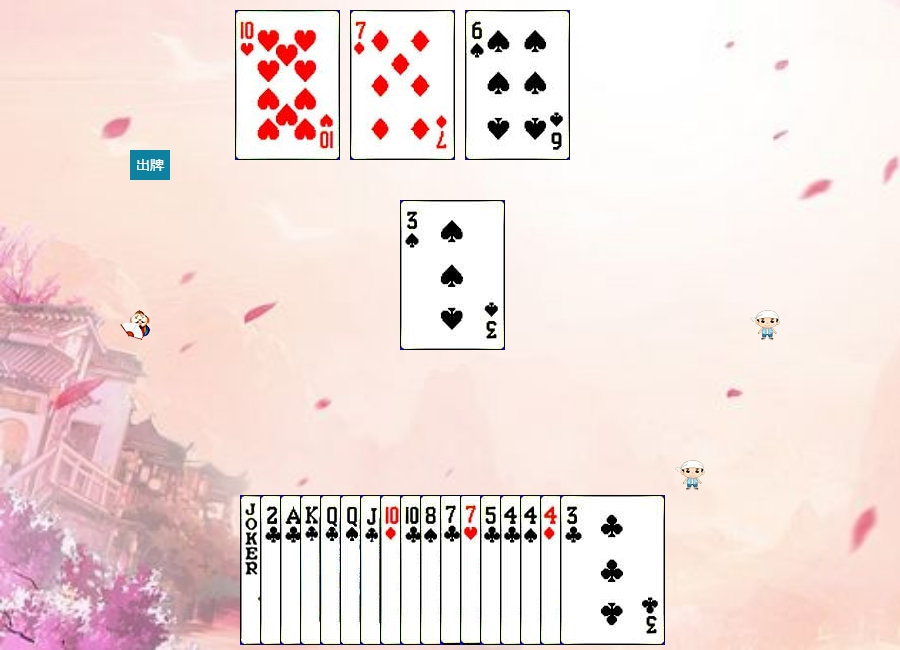10~1: (380, 495, 485, 645)
10~2: (400, 495, 505, 645)
10~3: (235, 10, 340, 160)
11~2: (360, 495, 465, 645)
12~2: (320, 495, 425, 645)
12~4: (340, 495, 445, 645)
13~2: (300, 495, 405, 645)
14~2: (280, 495, 385, 645)
15~2: (260, 495, 365, 645)
17~3: (240, 495, 345, 645)
3~2: (560, 495, 665, 645)
3~4: (400, 200, 505, 350)
4~1: (540, 495, 645, 645)
4~2: (500, 495, 605, 645)
4~4: (520, 495, 625, 645)
5~2: (480, 495, 585, 645)
6~4: (465, 10, 570, 160)
7~1: (350, 10, 455, 160)
7~2: (440, 495, 545, 645)
7~3: (460, 495, 565, 645)
8~4: (420, 495, 525, 645)
